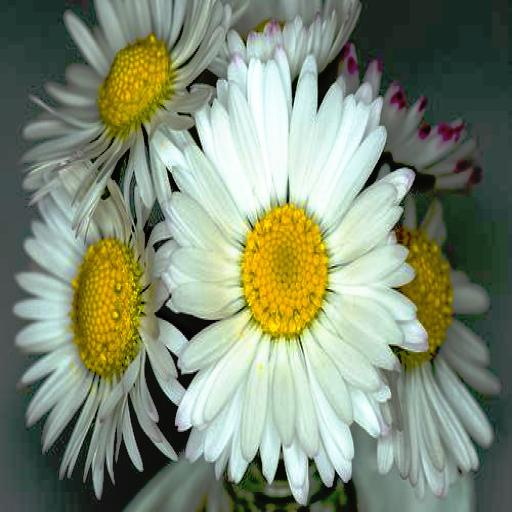daisy: (166, 77, 398, 473), (25, 192, 165, 489), (397, 204, 497, 490)
